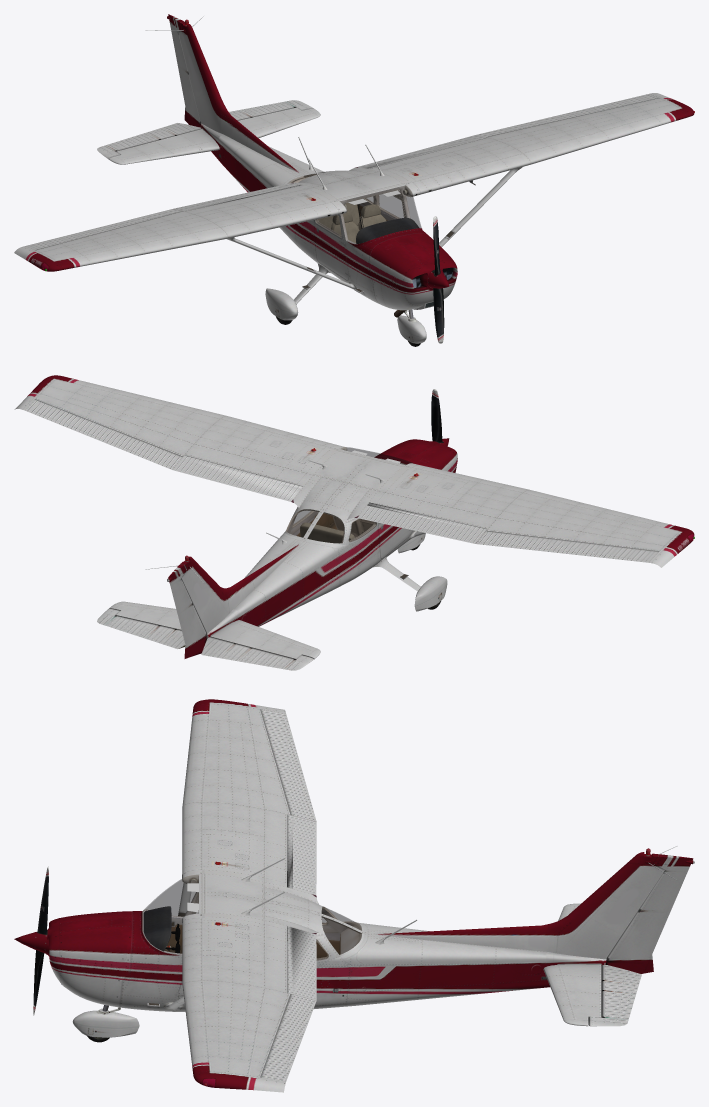
Rendered from cessna172.glb.
3 renders of one model, top to bottom at view 1: azimuth 30°, elevation 25°; view 2: azimuth 150°, elevation 25°; view 3: azimuth 270°, elevation 25°, orthographic. The views are drawn at different scales.
Parts seen in each view (by area): view 1: Cessna_Exterior_Body_MAT_0, Cessna_Exterior_Body_MAT_0.002, Cessna_Exterior_Body_MAT_0.004, Cessna_Exterior_Glass_MAT_0, Cessna_Exterior_Body_MAT_0.007, Cessna_Exterior_Body_MAT_0.018, Cessna_Exterior_Body_MAT_0.011, Cessna_Interior_Interior_Body_MAT_0, Cessna_Exterior_Body_MAT_0.010, Cessna_Exterior_Body_MAT_0.008, Cessna_Interior_Seats_MAT_0, Cessna_Exterior_Body_MAT_0.012 (+10 smaller); view 2: Cessna_Exterior_Body_MAT_0.002, Cessna_Exterior_Body_MAT_0.004, Cessna_Exterior_Body_MAT_0, Cessna_Exterior_Body_MAT_0.018, Cessna_Exterior_Body_MAT_0.007, Cessna_Exterior_Body_MAT_0.014, Cessna_Exterior_Body_MAT_0.015, Cessna_Exterior_Body_MAT_0.016, Cessna_Exterior_Body_MAT_0.017, Cessna_Exterior_Body_MAT_0.011, Cessna_Exterior_Glass_MAT_0, Cessna_Exterior_Body_MAT_0.008 (+7 smaller); view 3: Cessna_Exterior_Body_MAT_0, Cessna_Exterior_Body_MAT_0.004, Cessna_Exterior_Body_MAT_0.002, Cessna_Exterior_Body_MAT_0.018, Cessna_Exterior_Body_MAT_0.007, Cessna_Exterior_Body_MAT_0.008, Cessna_Exterior_Glass_MAT_0, Cessna_Interior_Interior_Body_MAT_0, Cessna_Exterior_Body_MAT_0.010, Cessna_Exterior_Body_MAT_0.015, Cessna_Exterior_Body_MAT_0.014, Cessna_Exterior_Body_MAT_0.017 (+4 smaller).
Boxes of the visible parts, left/top/right/bottom form: Cessna_Exterior_Body_MAT_0: left=281, top=167, right=457, bottom=317; Cessna_Exterior_Body_MAT_0.002: left=370, top=93, right=694, bottom=197; Cessna_Exterior_Body_MAT_0.004: left=14, top=185, right=346, bottom=271; Cessna_Exterior_Glass_MAT_0: left=290, top=171, right=421, bottom=243; Cessna_Exterior_Body_MAT_0.007: left=145, top=16, right=298, bottom=172; Cessna_Exterior_Body_MAT_0.018: left=200, top=123, right=325, bottom=229; Cessna_Exterior_Body_MAT_0.011: left=108, top=129, right=219, bottom=164; Cessna_Interior_Interior_Body_MAT_0: left=288, top=170, right=419, bottom=244; Cessna_Exterior_Body_MAT_0.010: left=238, top=107, right=320, bottom=138; Cessna_Exterior_Body_MAT_0.008: left=167, top=14, right=201, bottom=127; Cessna_Interior_Seats_MAT_0: left=318, top=202, right=386, bottom=242; Cessna_Exterior_Body_MAT_0.012: left=97, top=123, right=201, bottom=158; Cessna_Exterior_Body_MAT_0.002: left=14, top=375, right=344, bottom=485; Cessna_Exterior_Body_MAT_0.004: left=369, top=463, right=694, bottom=567; Cessna_Exterior_Body_MAT_0: left=280, top=439, right=457, bottom=589; Cessna_Exterior_Body_MAT_0.018: left=206, top=535, right=335, bottom=639; Cessna_Exterior_Body_MAT_0.007: left=145, top=544, right=298, bottom=633; Cessna_Exterior_Body_MAT_0.014: left=24, top=399, right=182, bottom=469; Cessna_Exterior_Body_MAT_0.015: left=475, top=530, right=659, bottom=562; Cessna_Exterior_Body_MAT_0.016: left=173, top=455, right=302, bottom=501; Cessna_Exterior_Body_MAT_0.017: left=357, top=502, right=486, bottom=543; Cessna_Exterior_Body_MAT_0.011: left=210, top=620, right=320, bottom=659; Cessna_Exterior_Glass_MAT_0: left=286, top=447, right=412, bottom=542; Cessna_Exterior_Body_MAT_0.008: left=167, top=564, right=206, bottom=658; Cessna_Exterior_Body_MAT_0: left=46, top=874, right=364, bottom=1011; Cessna_Exterior_Body_MAT_0.004: left=182, top=699, right=290, bottom=886; Cessna_Exterior_Body_MAT_0.002: left=182, top=913, right=290, bottom=1092; Cessna_Exterior_Body_MAT_0.018: left=355, top=923, right=606, bottom=1005; Cessna_Exterior_Body_MAT_0.007: left=378, top=846, right=677, bottom=959; Cessna_Exterior_Body_MAT_0.008: left=606, top=854, right=694, bottom=973; Cessna_Exterior_Glass_MAT_0: left=143, top=875, right=361, bottom=959; Cessna_Interior_Interior_Body_MAT_0: left=142, top=874, right=362, bottom=960; Cessna_Exterior_Body_MAT_0.010: left=543, top=964, right=601, bottom=1026; Cessna_Exterior_Body_MAT_0.015: left=260, top=709, right=316, bottom=821; Cessna_Exterior_Body_MAT_0.014: left=260, top=994, right=316, bottom=1081; Cessna_Exterior_Body_MAT_0.017: left=287, top=814, right=316, bottom=894.
Bounding box in the file's own units: 12.6 × 2.96 × 9.44.
Materials: 16 (10 with a texture image).
